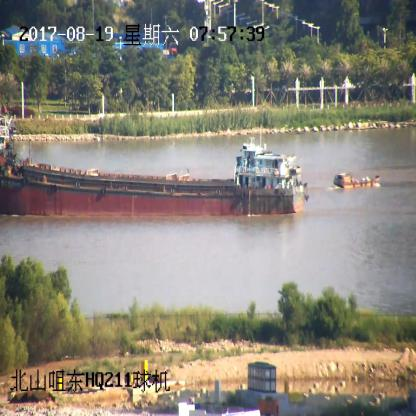Bulk Carrier: (0, 122, 307, 216)
